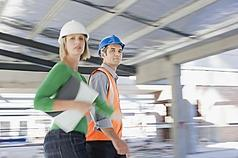helmet: (59, 21, 90, 44), (100, 35, 127, 51)
